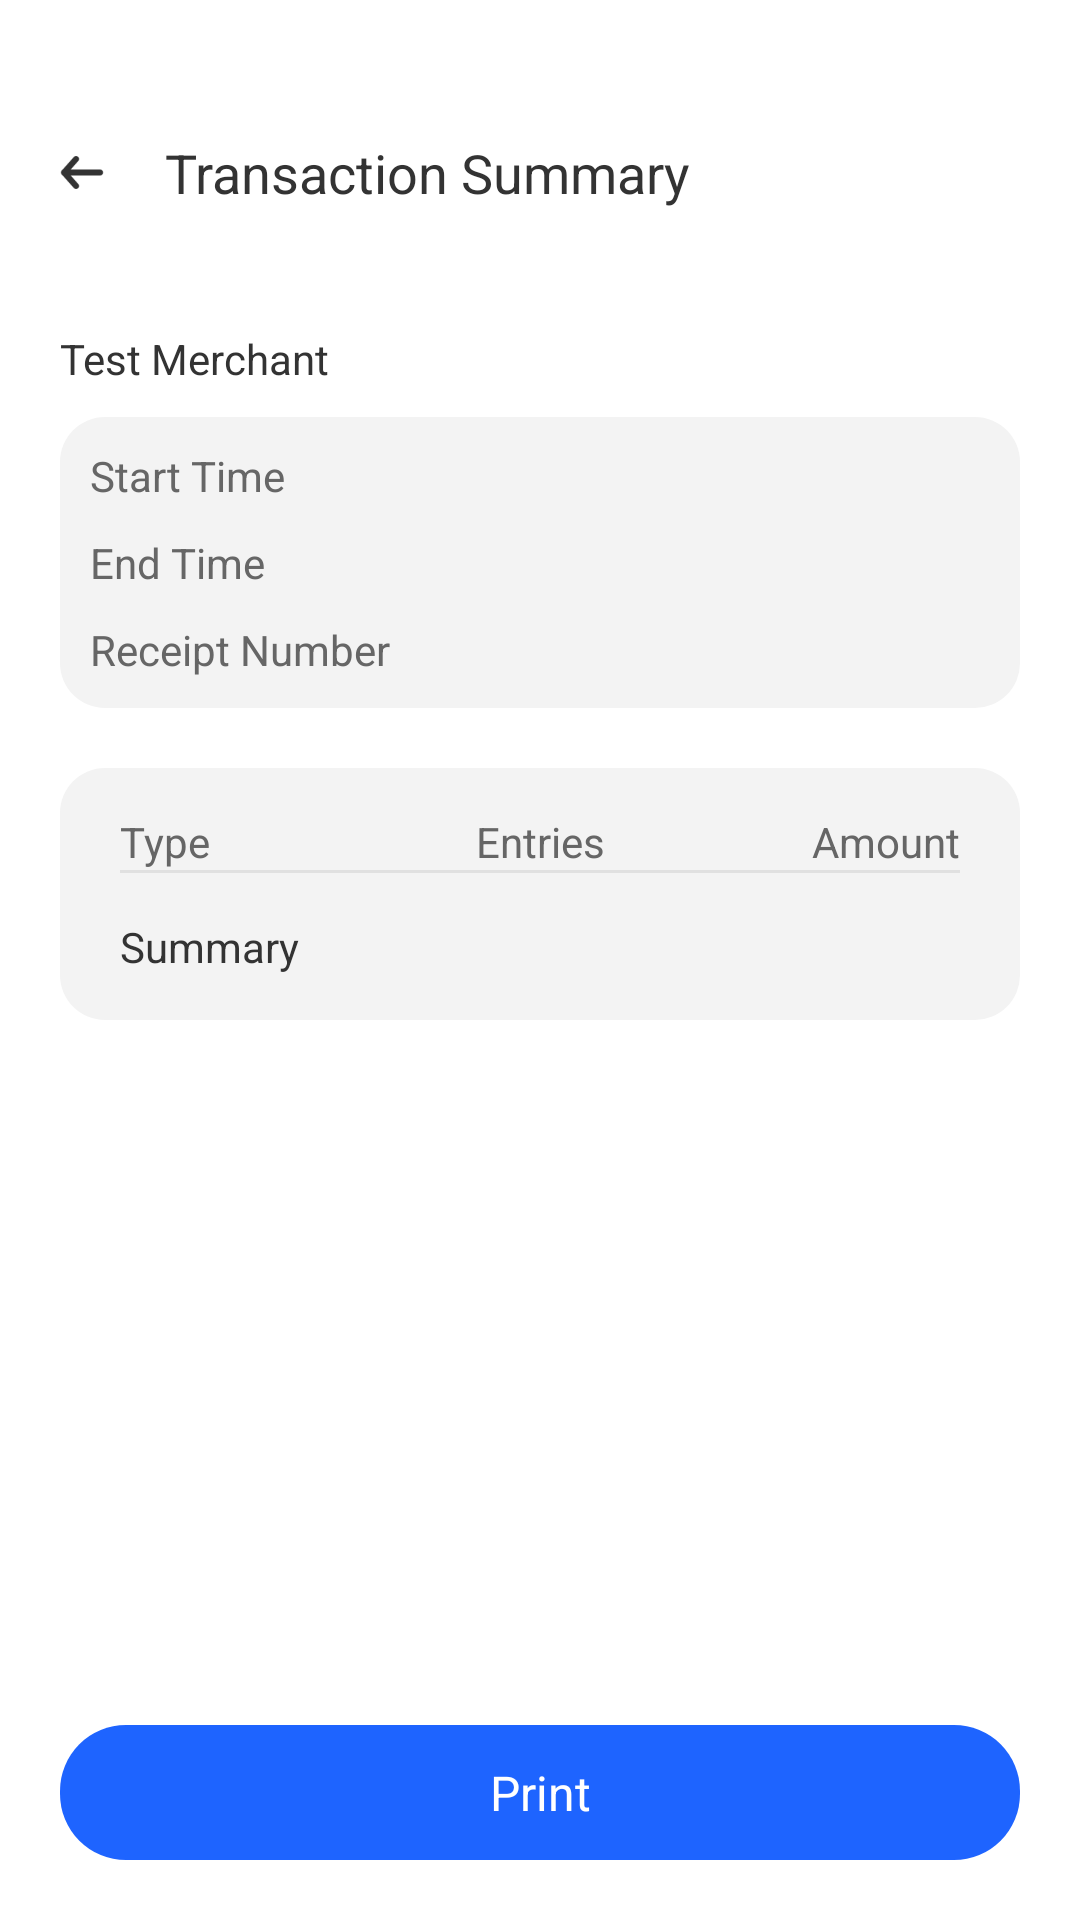

Named icons in this screenshot (1080×1920) and their centers, point (x, y):
back: point (82, 172)
